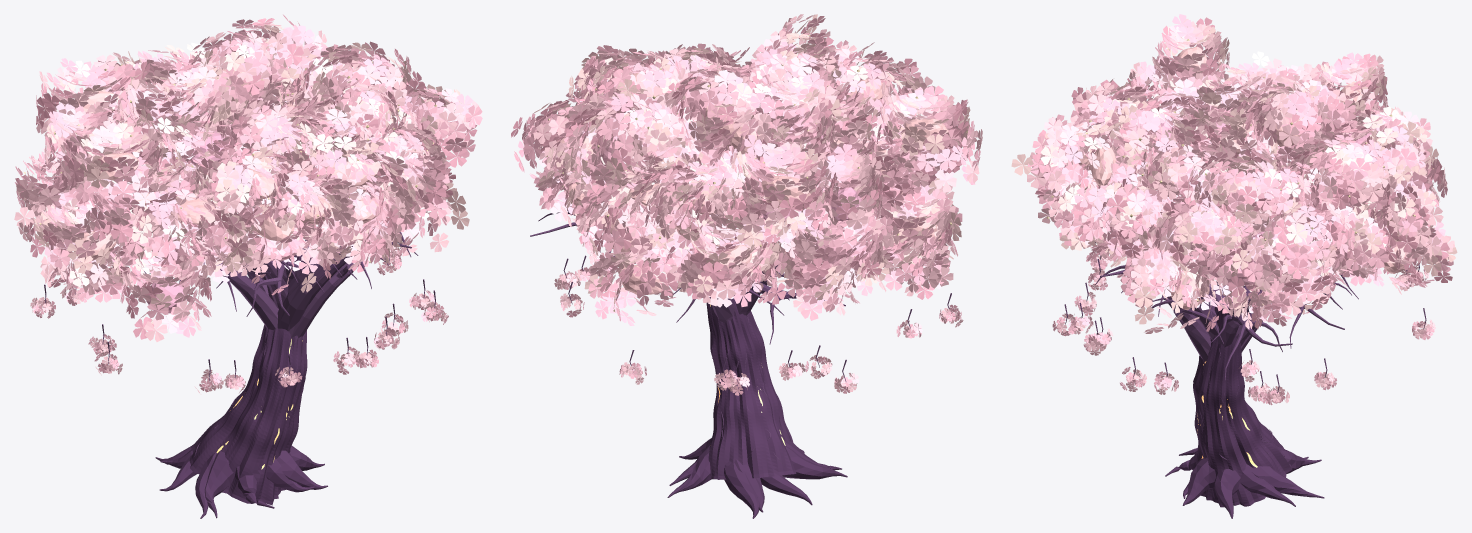
File: r10_palette_only.glb
The picture shows the model from 3 angles, left to right: view 1: azimuth 30°, elevation 25°; view 2: azimuth 150°, elevation 25°; view 3: azimuth 270°, elevation 25°; orthographic projection. The views are drawn at different scales.
Visible parts, largest first — view 1: Sakura_petal_pink, Sakura_petal_blush, Sakura_petal_warm_rose, Sakura_petal_cream, Trunk_bark_plumblack, Branches_plum, Canopy_peach, Canopy_rose, Canopy_depth_rose; view 2: Sakura_petal_pink, Sakura_petal_blush, Sakura_petal_warm_rose, Sakura_petal_cream, Trunk_bark_plumblack, Canopy_peach, Branches_plum, Canopy_rose; view 3: Sakura_petal_pink, Sakura_petal_blush, Sakura_petal_warm_rose, Sakura_petal_cream, Trunk_bark_plumblack, Branches_plum, Canopy_peach, Canopy_rose.
Part boxes in pixels (<box>): Sakura_petal_pink: <box>16,19,482,392</box>; Sakura_petal_blush: <box>14,22,481,392</box>; Sakura_petal_warm_rose: <box>15,14,477,339</box>; Sakura_petal_cream: <box>17,24,469,332</box>; Trunk_bark_plumblack: <box>155,255,352,518</box>; Branches_plum: <box>44,232,435,456</box>; Canopy_peach: <box>74,59,411,278</box>; Canopy_rose: <box>49,102,447,261</box>; Canopy_depth_rose: <box>68,120,386,313</box>; Sakura_petal_pink: <box>522,16,980,395</box>; Sakura_petal_blush: <box>523,14,982,392</box>; Sakura_petal_warm_rose: <box>511,22,975,319</box>; Sakura_petal_cream: <box>533,14,970,308</box>; Trunk_bark_plumblack: <box>667,264,847,518</box>; Canopy_peach: <box>556,67,948,294</box>; Branches_plum: <box>530,210,951,466</box>; Canopy_rose: <box>595,112,939,265</box>; Sakura_petal_pink: <box>1032,26,1453,405</box>; Sakura_petal_blush: <box>1027,19,1454,402</box>; Sakura_petal_warm_rose: <box>1028,14,1452,331</box>; Sakura_petal_cream: <box>1011,25,1457,324</box>; Trunk_bark_plumblack: <box>1165,299,1324,518</box>; Branches_plum: <box>1064,242,1426,460</box>; Canopy_peach: <box>1065,46,1410,310</box>; Canopy_rose: <box>1112,92,1361,285</box>.
Size of the model in its own units: 26.98 by 27.19 by 26.47.
